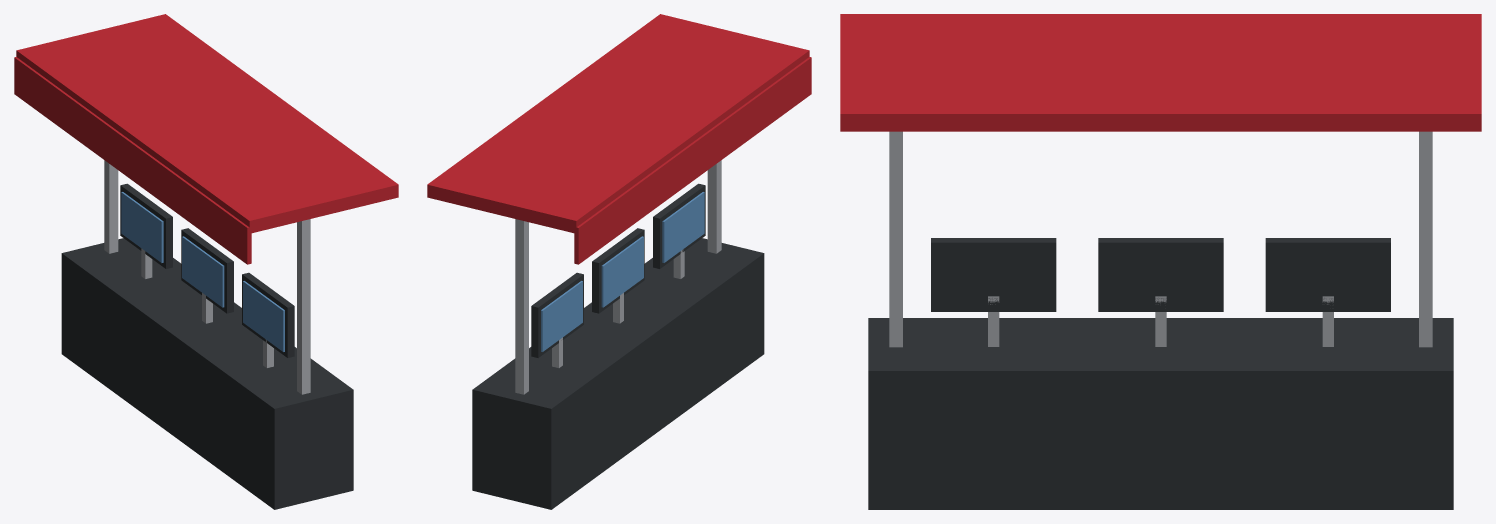
Rendered from bancada_1.glb.
3 renders of one model, left to right at view 1: azimuth 30°, elevation 25°; view 2: azimuth 150°, elevation 25°; view 3: azimuth 270°, elevation 25°, orthographic. The views are drawn at different scales.
Parts seen in each view (by area): view 1: cor, esc, tel, aco; view 2: cor, esc, tel, aco; view 3: esc, cor, aco.
Boxes of the visible parts, bbox=[...] form: cor: bbox=[14, 14, 398, 264]; esc: bbox=[61, 183, 353, 509]; tel: bbox=[121, 192, 284, 351]; aco: bbox=[104, 160, 310, 394]; cor: bbox=[427, 14, 811, 264]; esc: bbox=[472, 183, 764, 509]; tel: bbox=[541, 192, 704, 351]; aco: bbox=[515, 160, 721, 394]; esc: bbox=[868, 238, 1453, 509]; cor: bbox=[840, 14, 1481, 131]; aco: bbox=[889, 131, 1432, 347].
Size of the model in its own units: 1.73 by 3.32 by 4.6.
